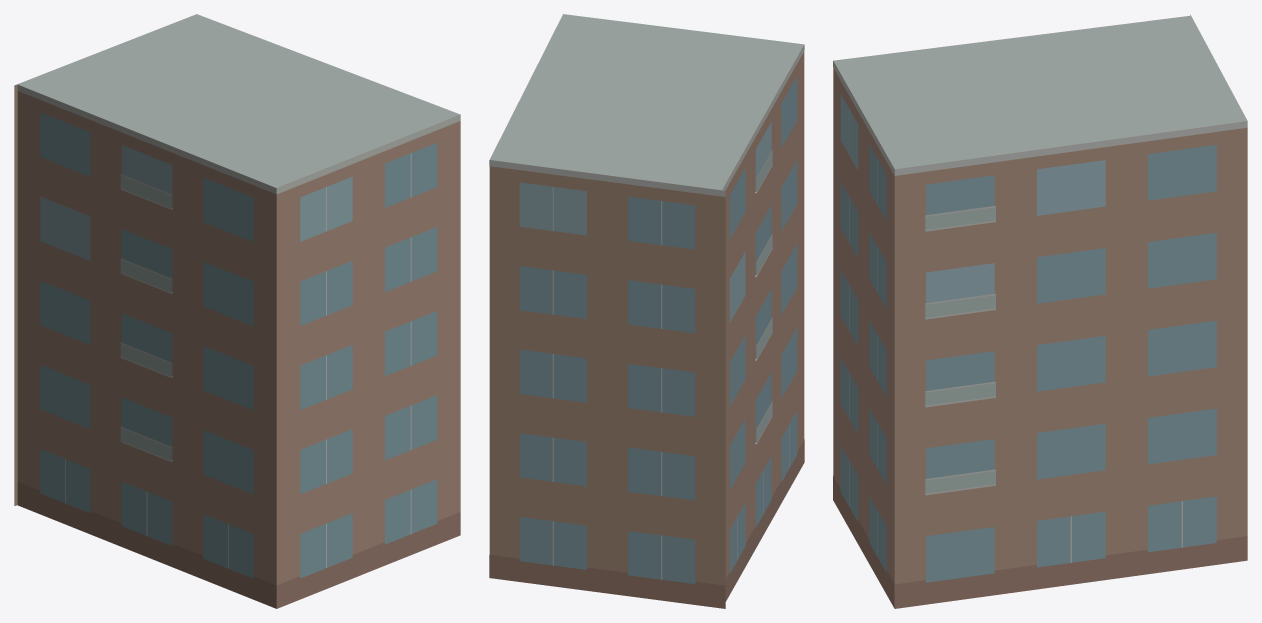
Rendered from survey-upis-32838280.glb.
3 renders of one model, left to right at view 1: azimuth 30°, elevation 25°; view 2: azimuth 150°, elevation 25°; view 3: azimuth 270°, elevation 25°, orthographic. The views are drawn at different scales.
Parts seen in each view (by area): view 1: survey-upis-32838280.tmp; view 2: survey-upis-32838280.tmp; view 3: survey-upis-32838280.tmp.
Boxes of the visible parts, x1,y1,x2,y2 form: survey-upis-32838280.tmp: (14,14,460,608); survey-upis-32838280.tmp: (489,14,804,608); survey-upis-32838280.tmp: (833,14,1247,608).
Bounding box in the file's own units: 12.37 × 16.3 × 13.94.
